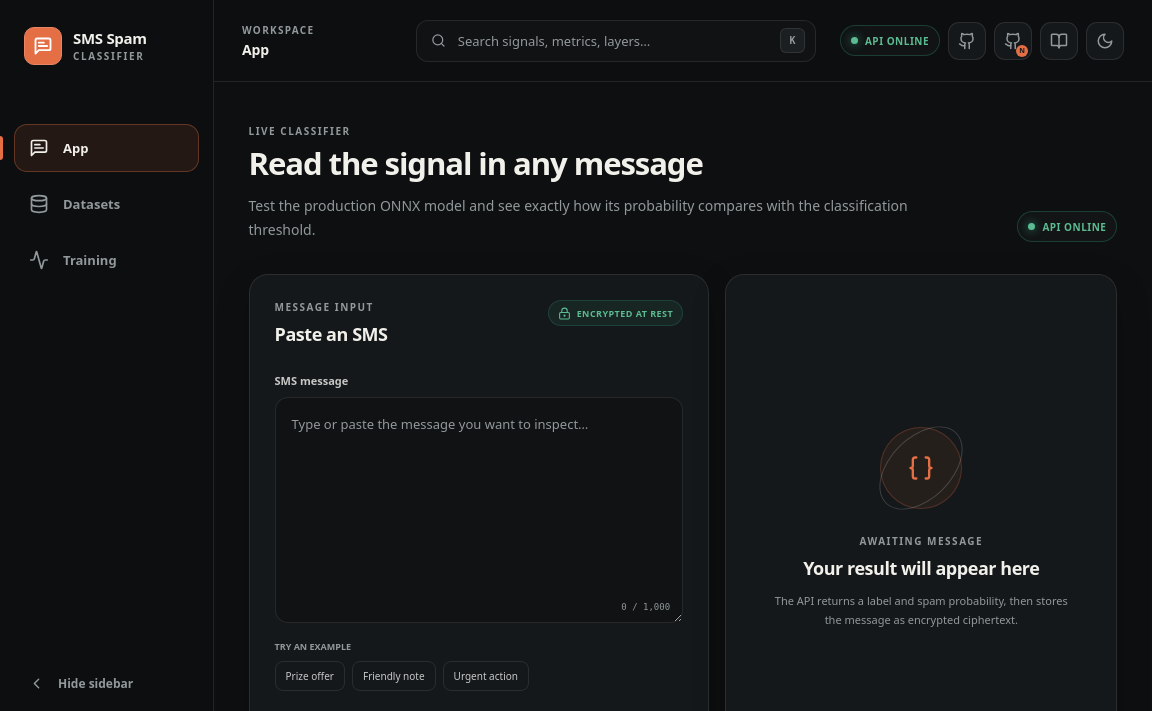
workspace navigation and controls › hides and restores the desktop sidebar
Click the button "Hide sidebar" at (106, 683), box [14,662,199,704]
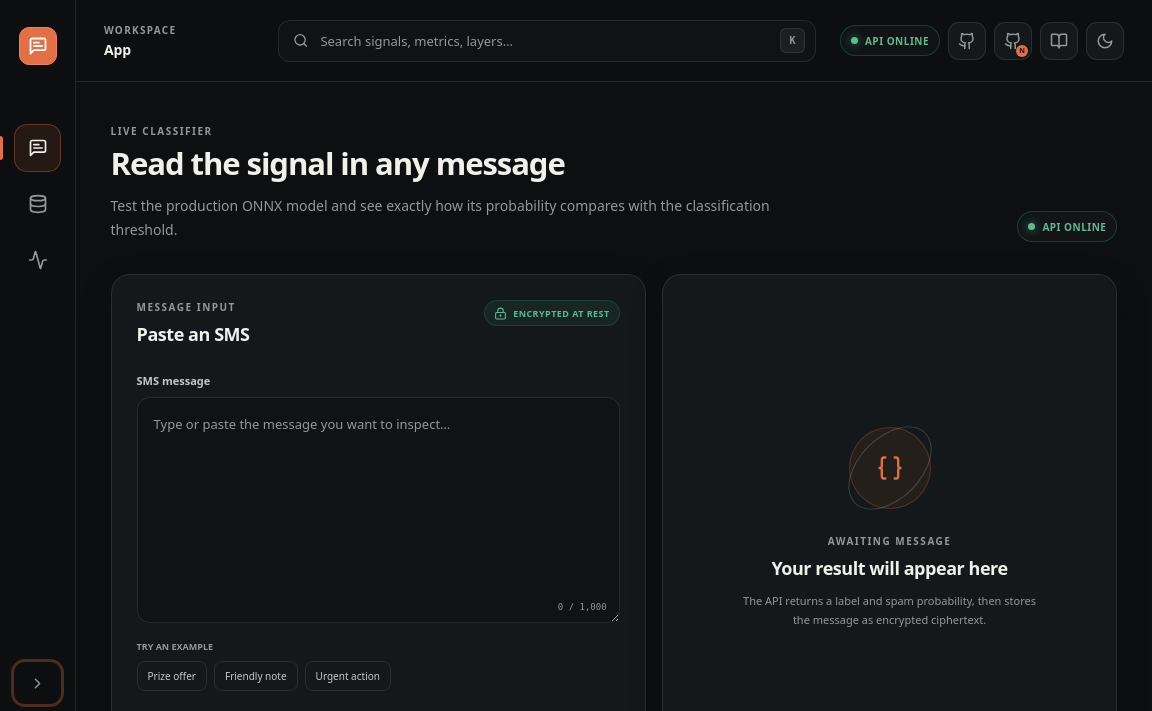
Now the button named "Show sidebar" is shown, box [14,662,61,704]
